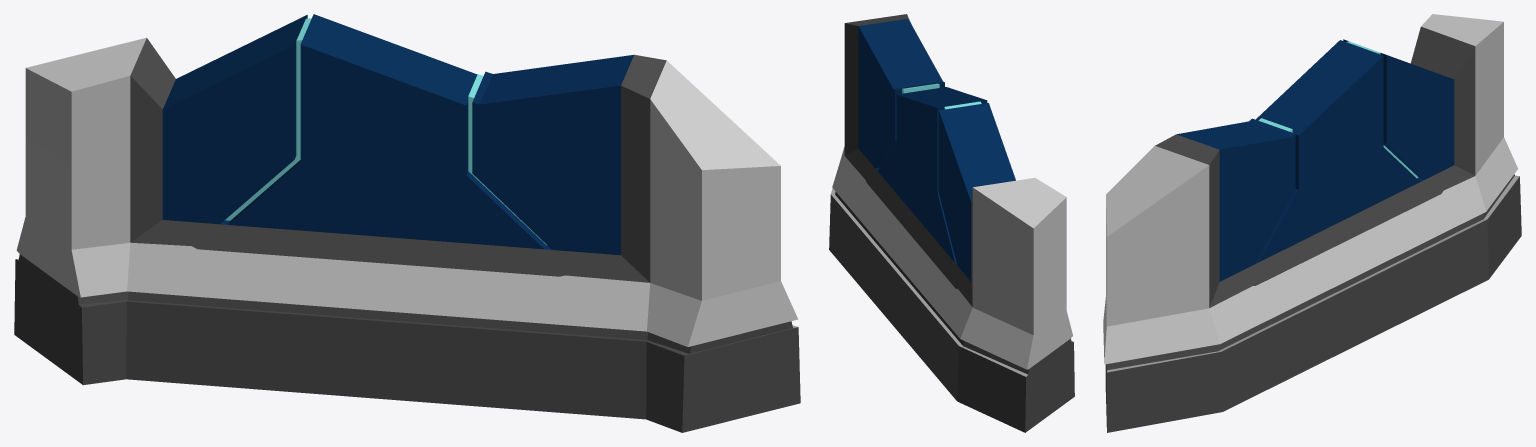
File: Outer_Wall_Corner_Destroyed_B.fbx
3 views of the same model, side by side, from view 1: azimuth 30°, elevation 25°; view 2: azimuth 150°, elevation 25°; view 3: azimuth 270°, elevation 25° (orthographic). The views are drawn at different scales.
Visible parts, largest first — view 1: Outer_Corner_Wall_Destroyed_B; view 2: Outer_Corner_Wall_Destroyed_B; view 3: Outer_Corner_Wall_Destroyed_B.
Boxes of the visible parts, x1,y1,x2,y2 form: Outer_Corner_Wall_Destroyed_B: (14, 14, 800, 432); Outer_Corner_Wall_Destroyed_B: (829, 14, 1074, 432); Outer_Corner_Wall_Destroyed_B: (1103, 14, 1521, 432).
Bounding box in the file's own units: 5.51 × 4.94 × 3.39.
